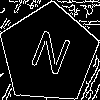N: (24, 29, 74, 85)
